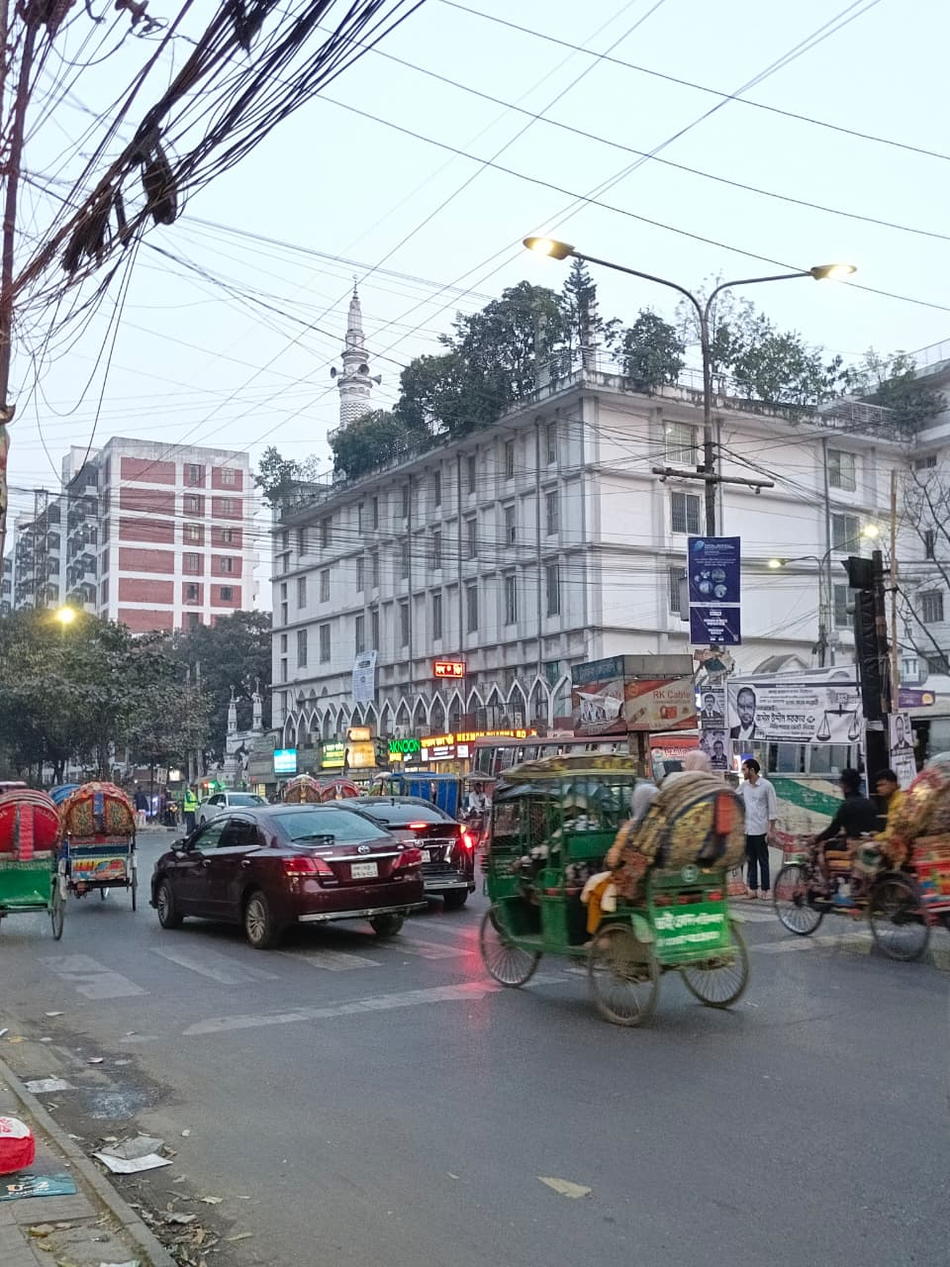Bus: (445, 716, 732, 781), (762, 738, 910, 838)
auto-ricksaw: (477, 733, 762, 1068), (777, 755, 950, 961), (10, 748, 146, 971)
private car: (141, 789, 469, 953)
